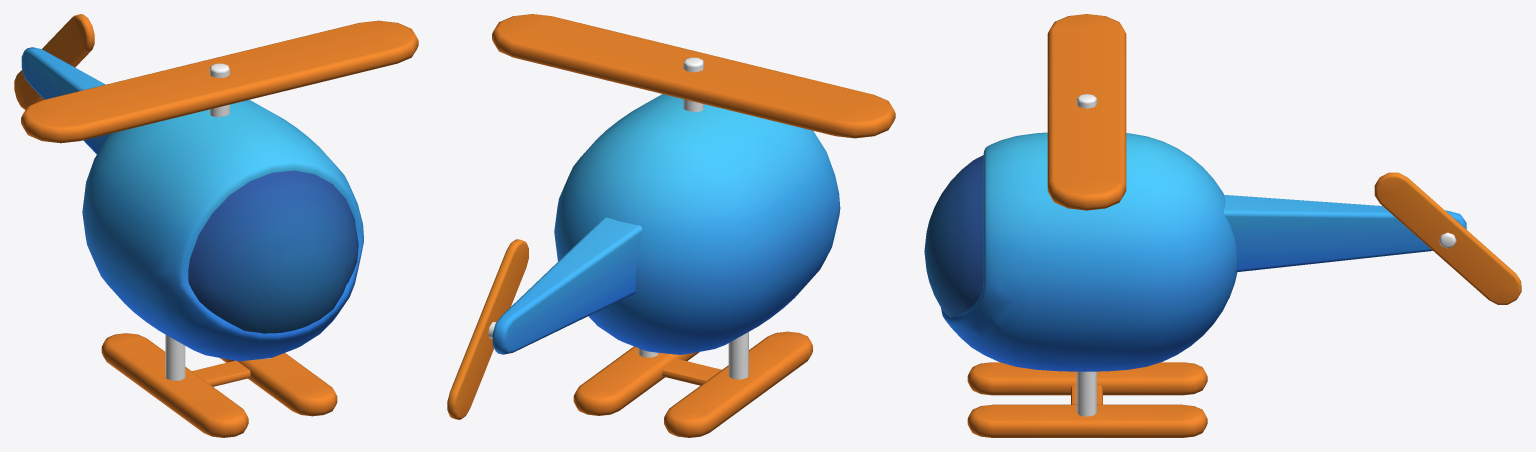
Rendered from helicopter.fbx.
3 views of the same model, side by side, from view 1: azimuth 30°, elevation 25°; view 2: azimuth 150°, elevation 25°; view 3: azimuth 270°, elevation 25° (orthographic). The views are drawn at different scales.
Visible parts, largest first — view 1: heli_body, heli_fly2, heli_fly1; view 2: heli_body, heli_fly2, heli_fly1; view 3: heli_body, heli_fly2, heli_fly1.
Part boxes in pixels (bbox=[...]): heli_body: bbox=[21, 47, 363, 437]; heli_fly2: bbox=[21, 20, 418, 143]; heli_fly1: bbox=[14, 14, 94, 109]; heli_body: bbox=[488, 57, 840, 437]; heli_fly2: bbox=[492, 14, 895, 138]; heli_fly1: bbox=[447, 239, 528, 419]; heli_body: bbox=[924, 94, 1466, 437]; heli_fly2: bbox=[1047, 14, 1126, 210]; heli_fly1: bbox=[1374, 172, 1521, 304].
Size of the model in its own units: 37.04 by 29.03 by 50.38.
